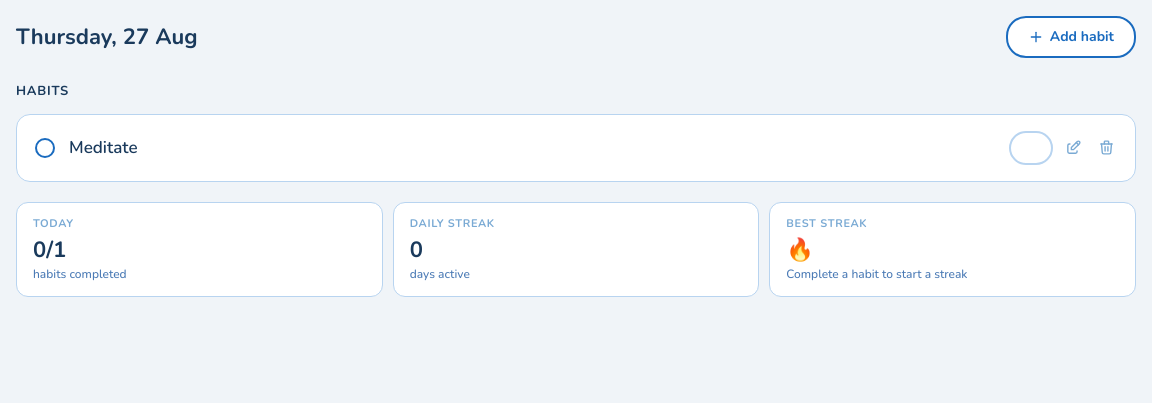
Test case: HabitsSection component › when the user clicks a habit's edit icon › when the user clicks Cancel on the update form › then re-enables the 'Add habit' button
The image size is (1152, 403).
What coordinates should you click on to do the following:
click the button named "Edit habit"
I would click on:
 (1074, 148)
Its box is [1061, 135, 1086, 160].
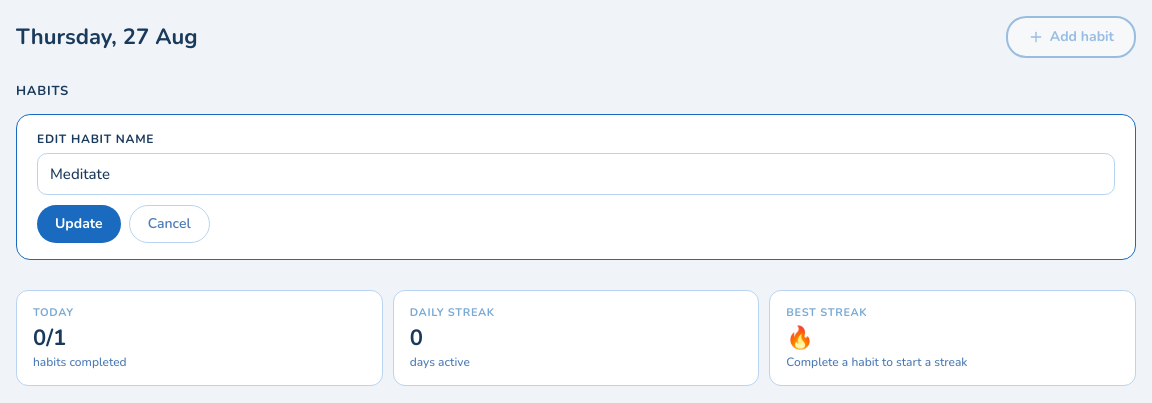
What coordinates should you click on to do the following:
click the button "Cancel"
I would click on:
 (169, 224)
Its box is [129, 205, 210, 243].
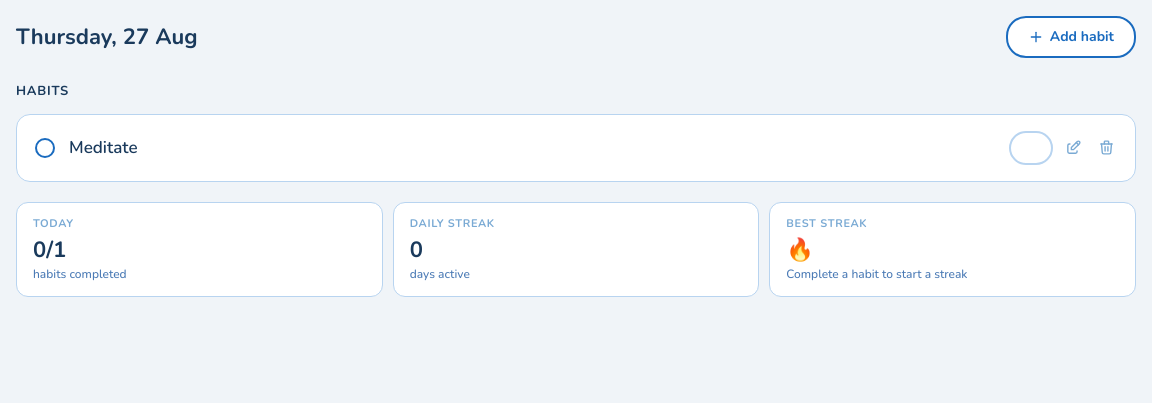
Check: the label labelled "Edit habit name" is gone
Check: the button "Add habit" is enabled, box [1006, 16, 1136, 58]
